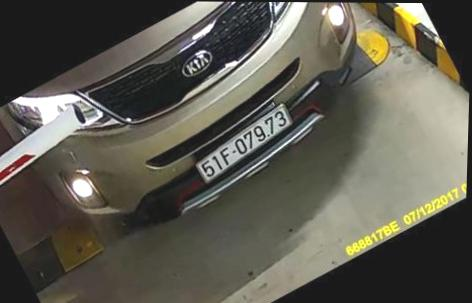License_Plate: (195, 103, 301, 191)
